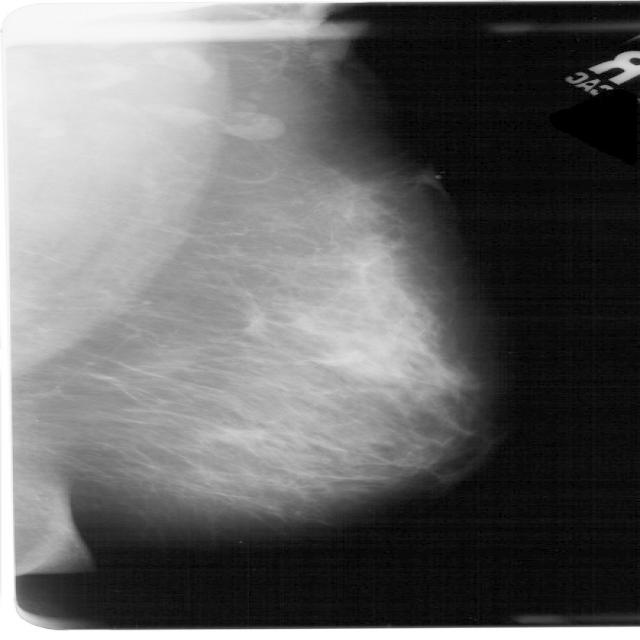tumour: (328, 179, 389, 225)
